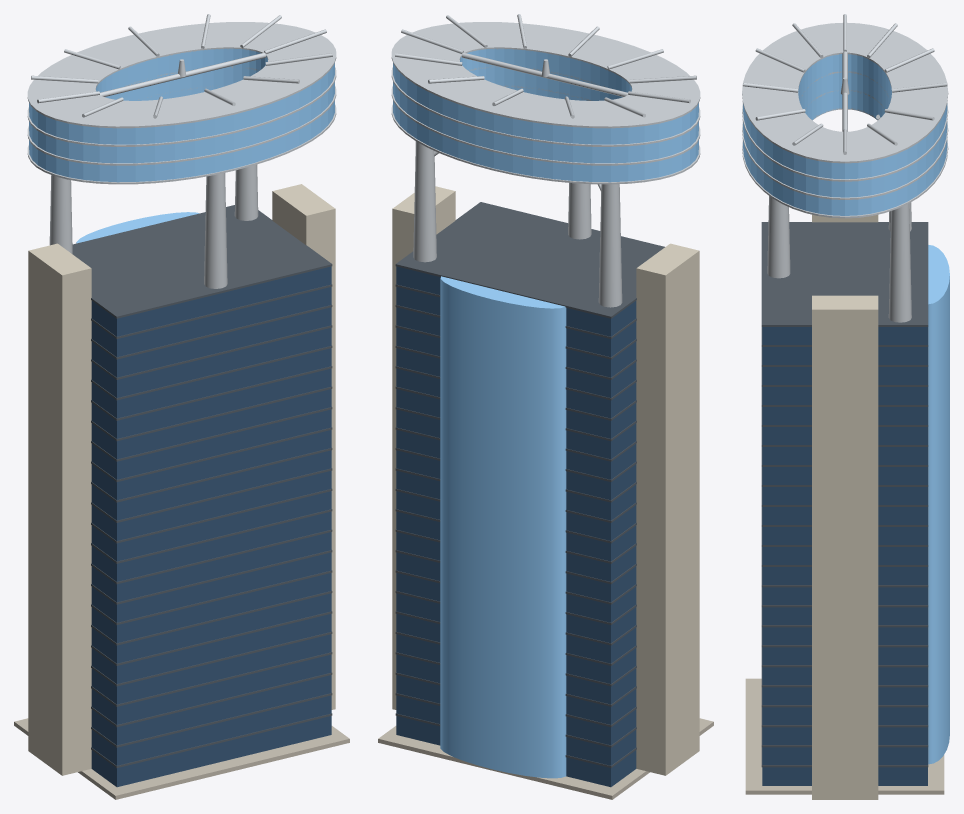
File: jongno-tower.glb
3 views of the same model, side by side, from view 1: azimuth 30°, elevation 25°; view 2: azimuth 150°, elevation 25°; view 3: azimuth 270°, elevation 25° (orthographic). The views are drawn at different scales.
Size of the model in its own units: 59.59 by 132 by 37.68.
